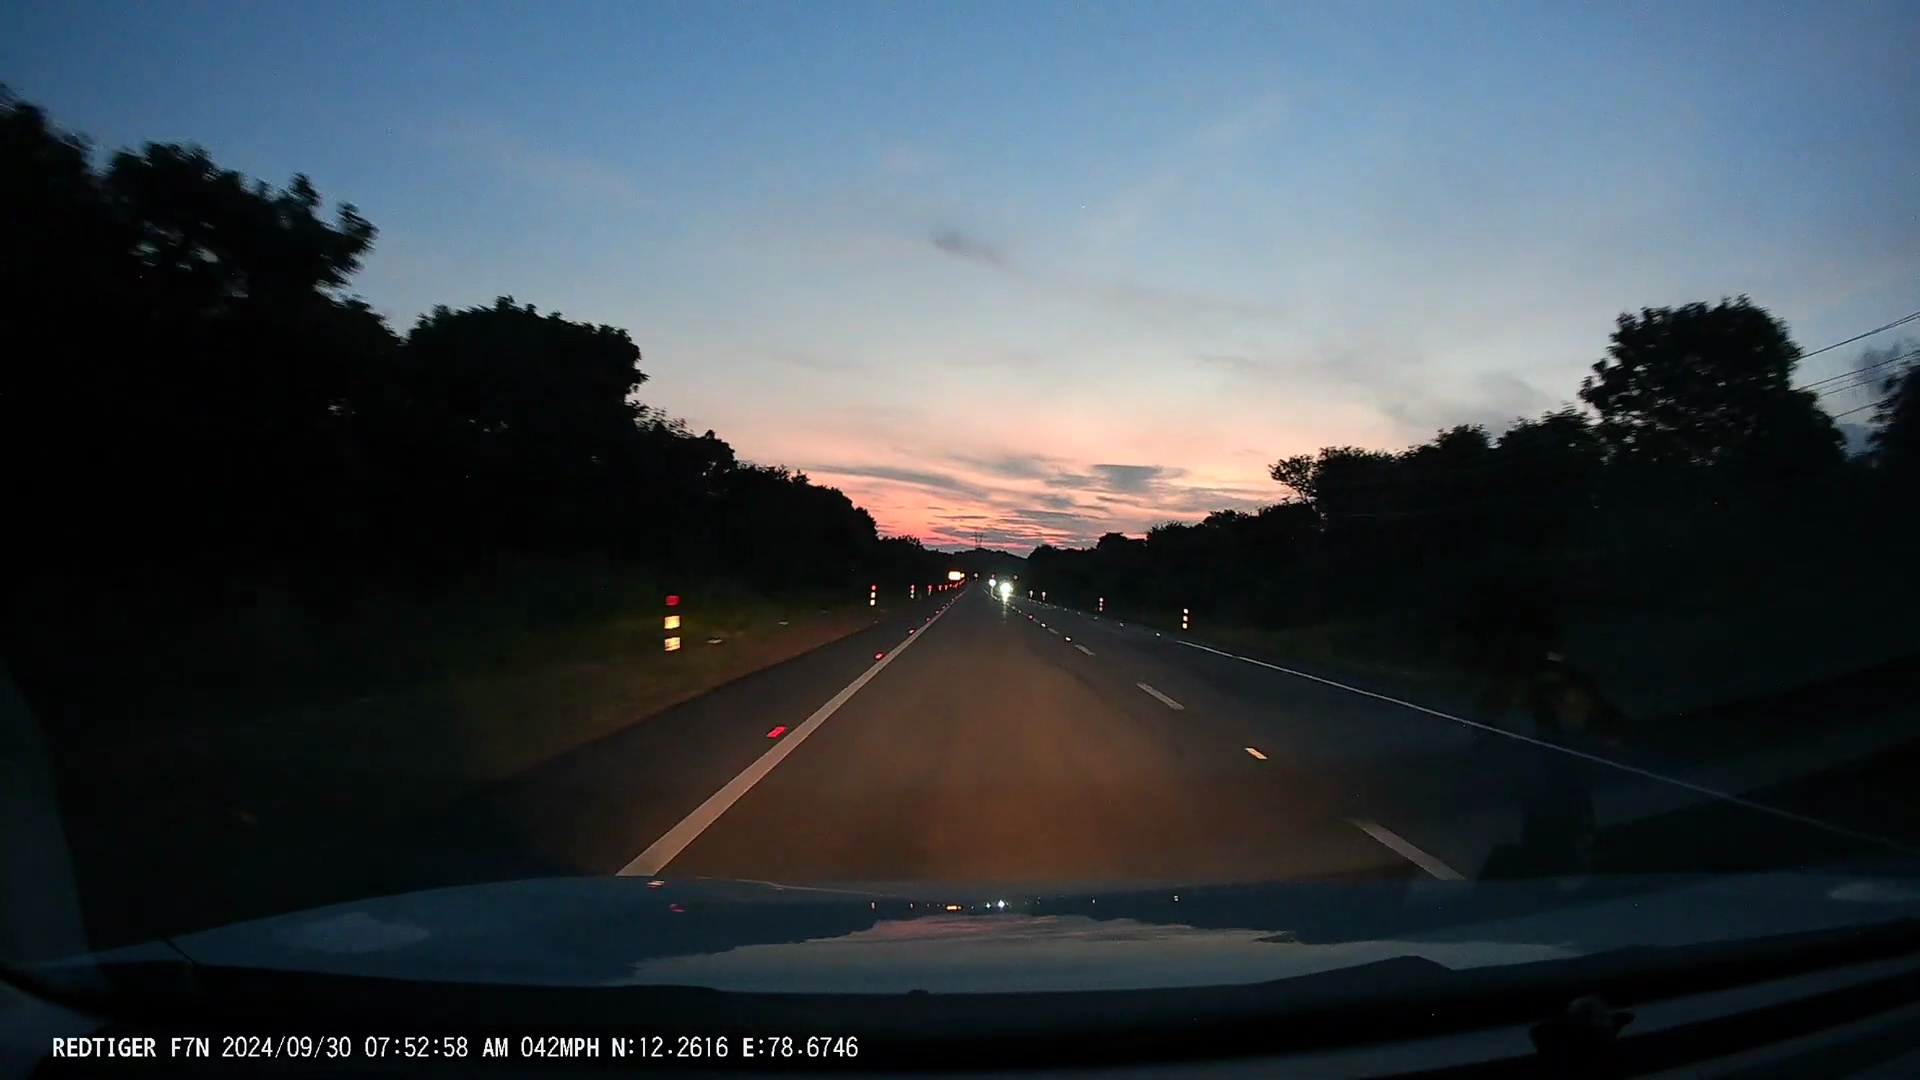headlight: (1001, 583, 1011, 597), (989, 578, 998, 589)
two wheeler: (986, 575, 1018, 605)
